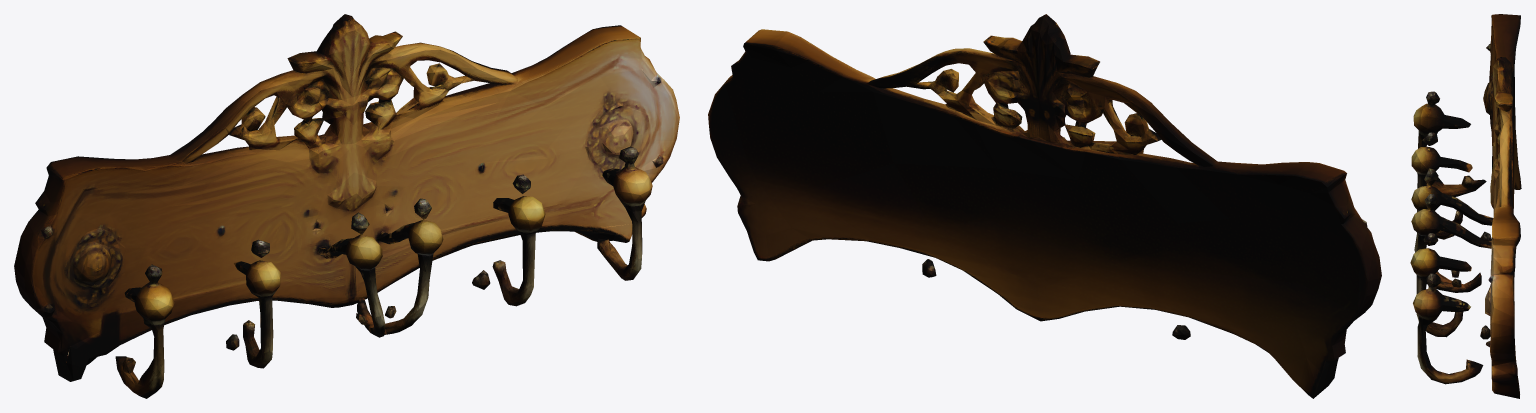
Rendered from wooden-key-holder-vintage.jpeg.glb.
3 views of the same model, side by side, from view 1: azimuth 30°, elevation 25°; view 2: azimuth 150°, elevation 25°; view 3: azimuth 270°, elevation 25° (orthographic). The views are drawn at different scales.
Visible parts, largest first — view 1: world; view 2: world; view 3: world.
Part boxes in pixels (x1,y1,x2,y2): world: (14,14,679,398); world: (708,14,1381,398); world: (1410,14,1521,398).
Bounding box in the file's own units: 0.9988 × 0.4411 × 0.1868.
1 material, 1 textured.
